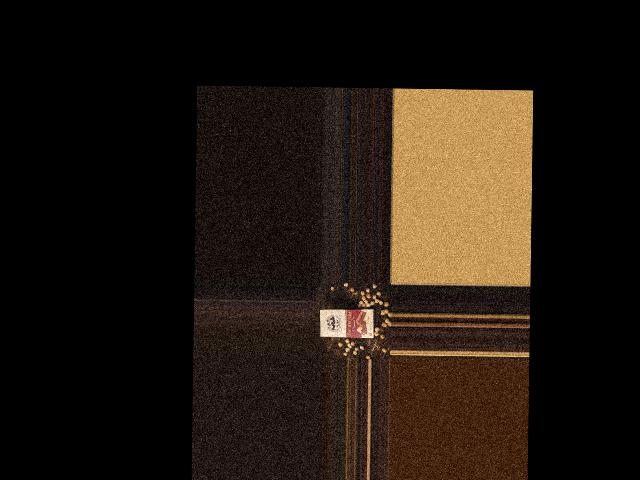chocolate: (318, 305, 375, 339)
